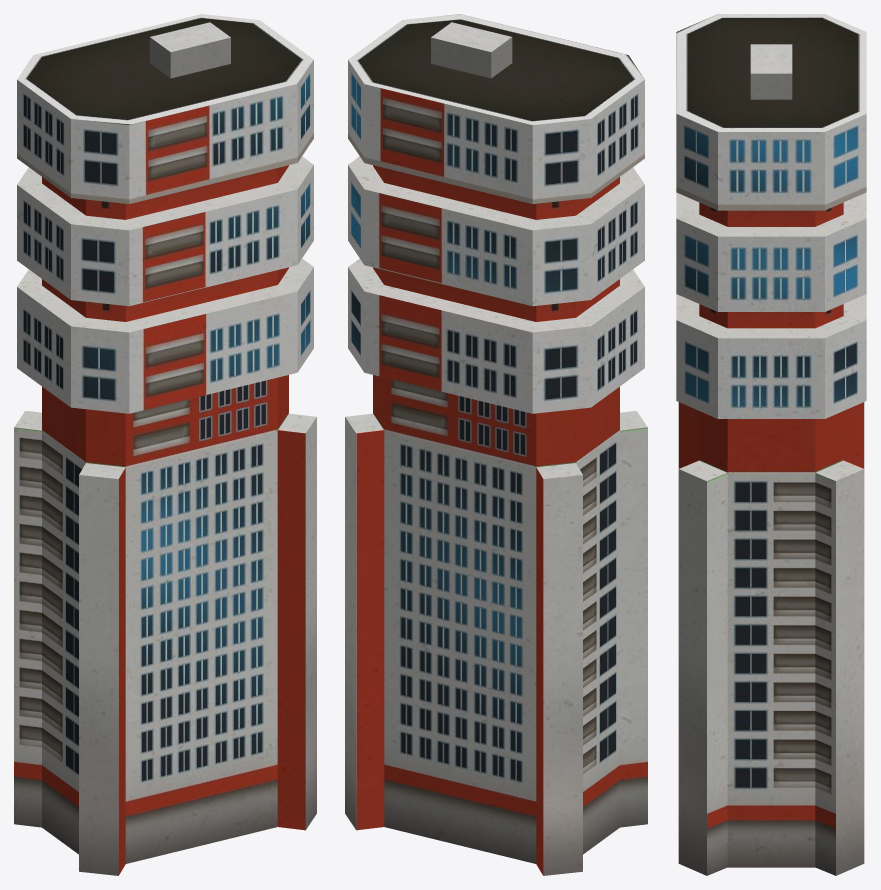
File: House_13.FBX
3 views of the same model, side by side, from view 1: azimuth 30°, elevation 25°; view 2: azimuth 150°, elevation 25°; view 3: azimuth 270°, elevation 25° (orthographic).
Visible parts, largest first — view 1: House_13; view 2: House_13; view 3: House_13.
Part boxes in pixels (x1=…): House_13: x1=14, y1=14, x2=316, y2=875; House_13: x1=345, y1=14, x2=647, y2=875; House_13: x1=676, y1=14, x2=866, y2=875.
Bounding box in the file's own units: 33.51 × 102 × 22.89.
Materials: 1 (1 with a texture image).
